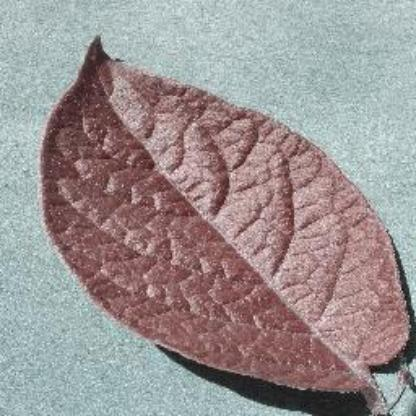Healthy-plant: (35, 29, 415, 414)
